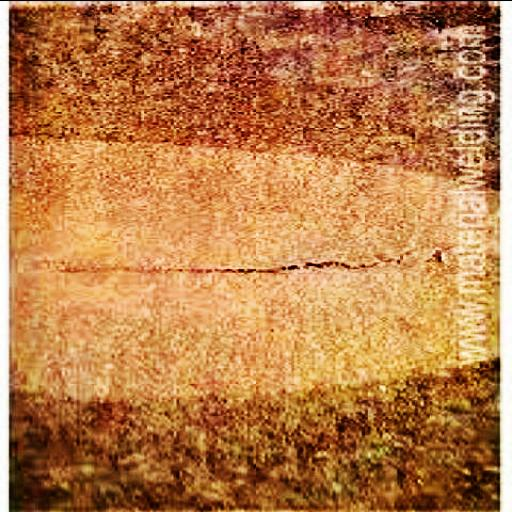crack: (63, 248, 420, 290)
